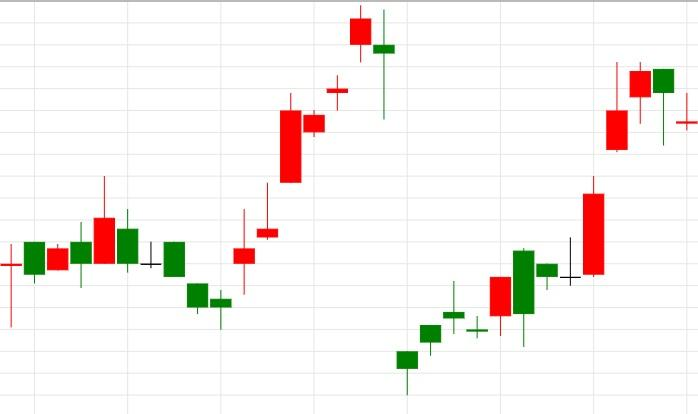bearish_engulfing_fall: (396, 248, 535, 394)
hanging_man_fall: (559, 62, 675, 286)
